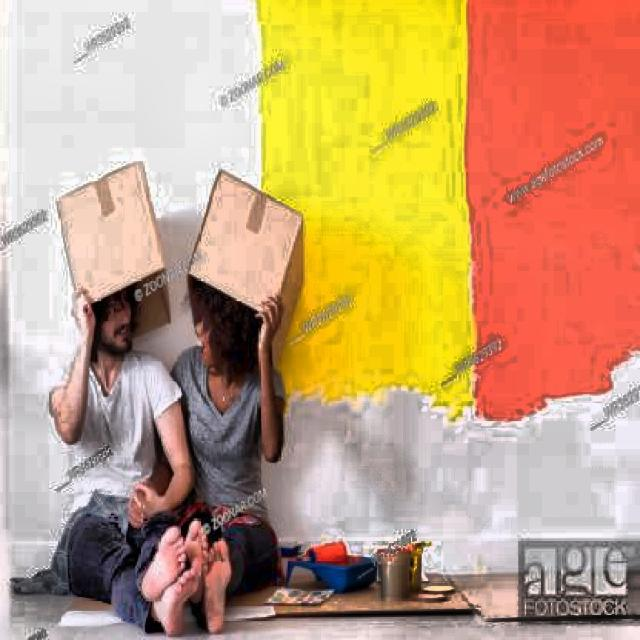Cardbox: (44, 161, 175, 350), (185, 158, 304, 362)
